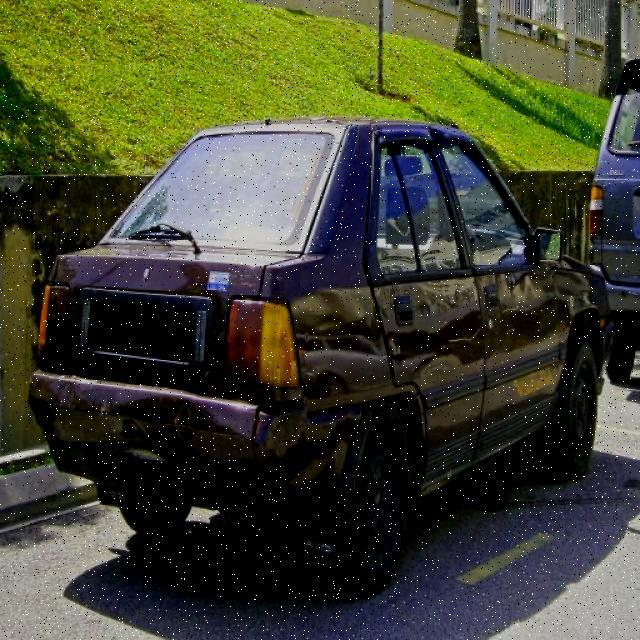car damage: (98, 385, 263, 482)
